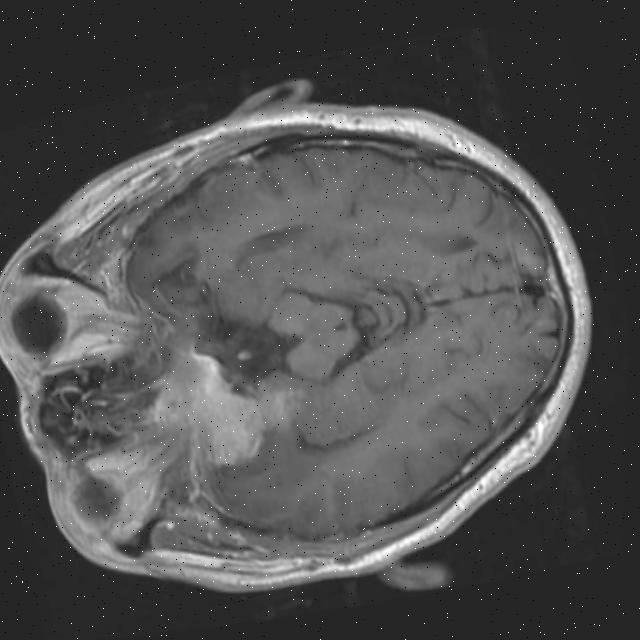Meningioma: (153, 333, 270, 478)
